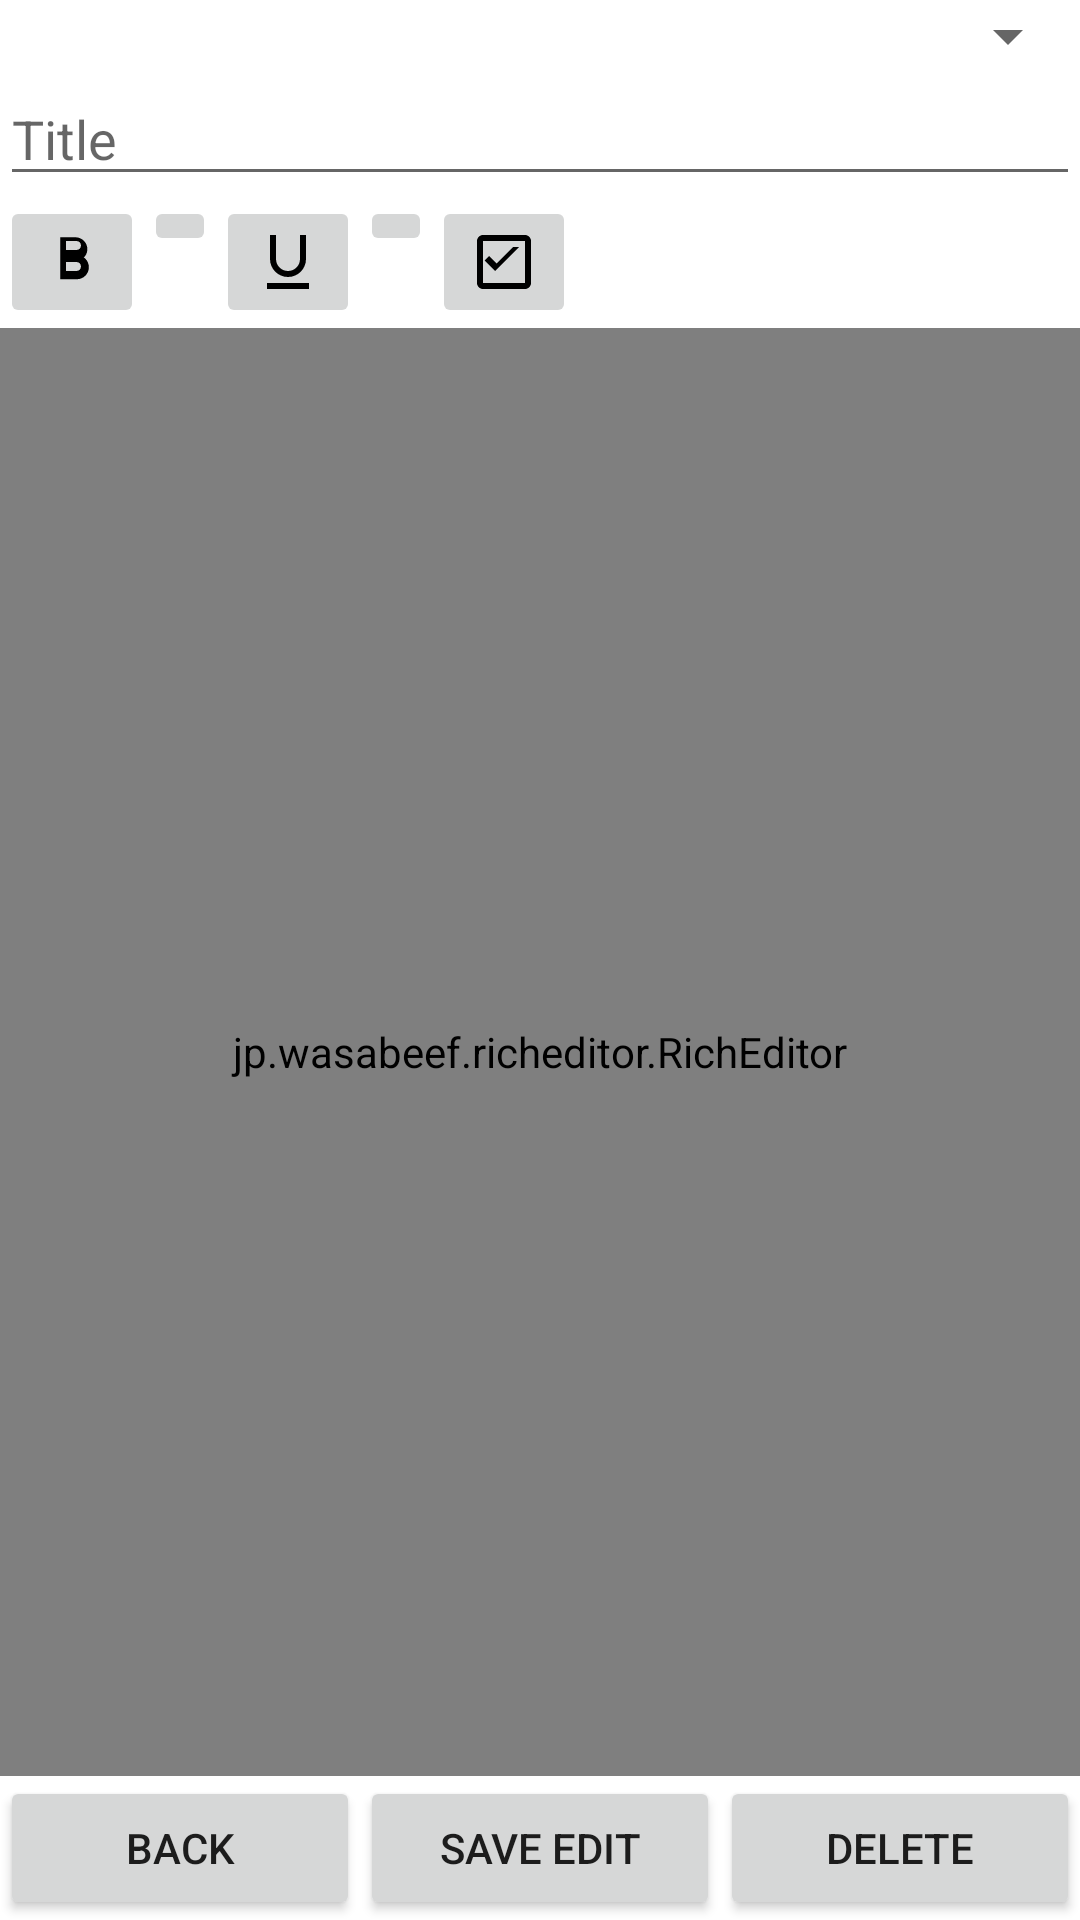

Where to tap for icons on this 1080px×1920px app screen, as (x,y):
Bold: (72,262)
Checkbox List: (504,262)
Underline: (288,262)
